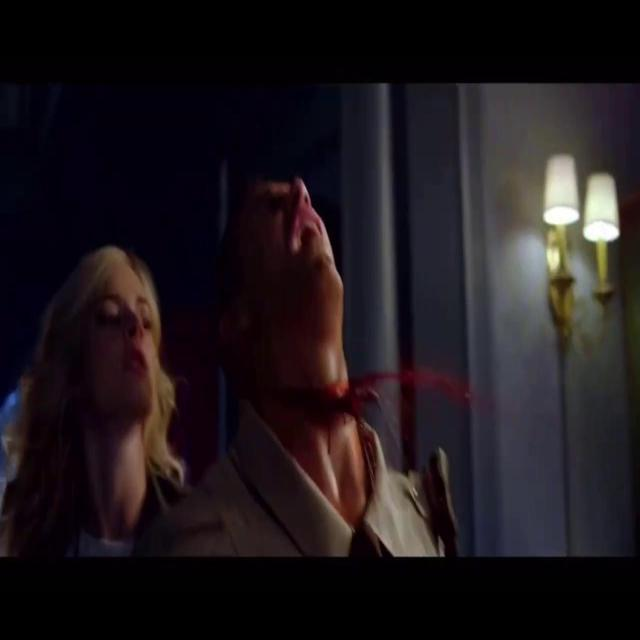flood: (318, 364, 486, 424)
